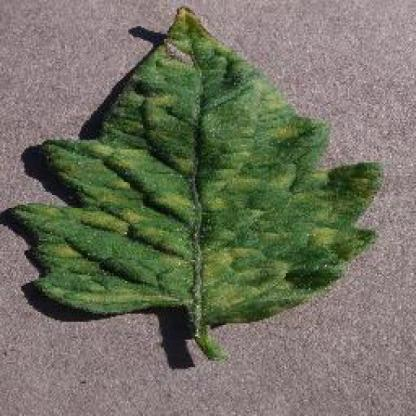Tomato_Leaf_Mold: (10, 6, 385, 319)
